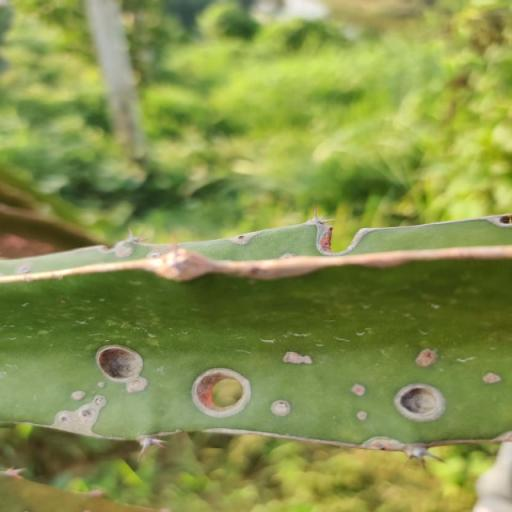stemcanker: (357, 432, 413, 458), (279, 344, 318, 373), (414, 346, 444, 374), (477, 368, 504, 392), (268, 398, 297, 418), (349, 378, 372, 400), (66, 387, 94, 404), (426, 300, 454, 316), (355, 409, 375, 425), (96, 379, 111, 392)
